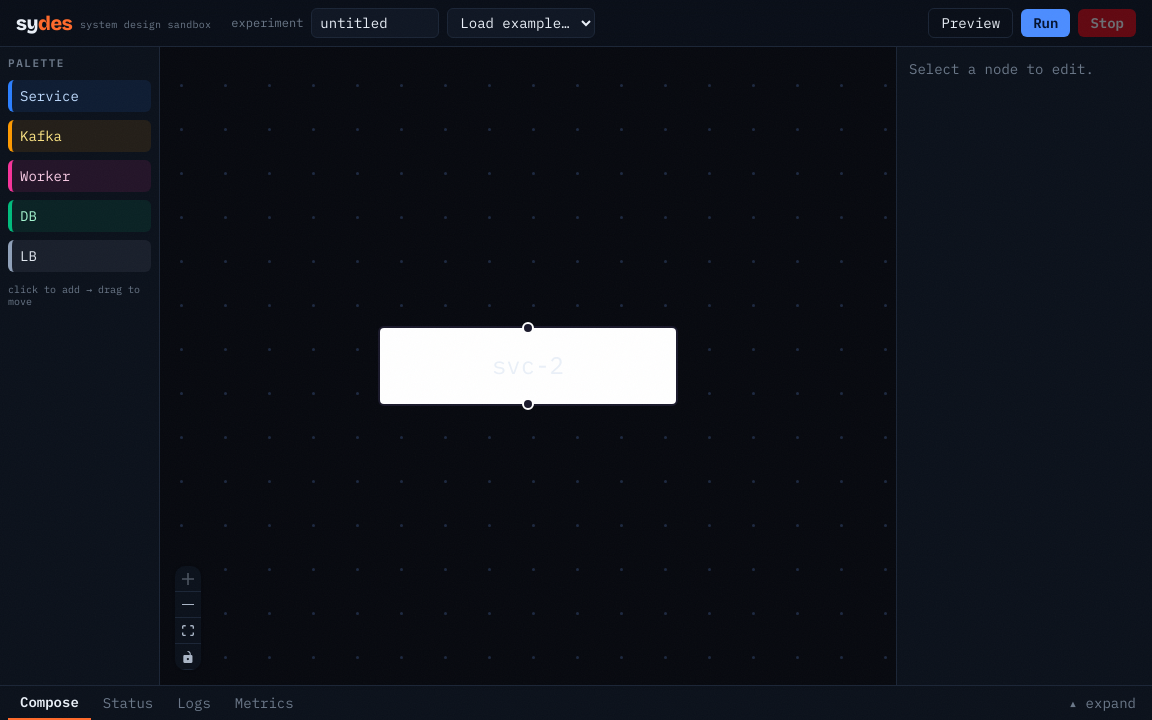
Test: App brick 5 (run load) › does not count a node with fractional loadRate as a source
The image size is (1152, 720).
Click the button "Run" at (1046, 23), box [1021,9,1070,37]
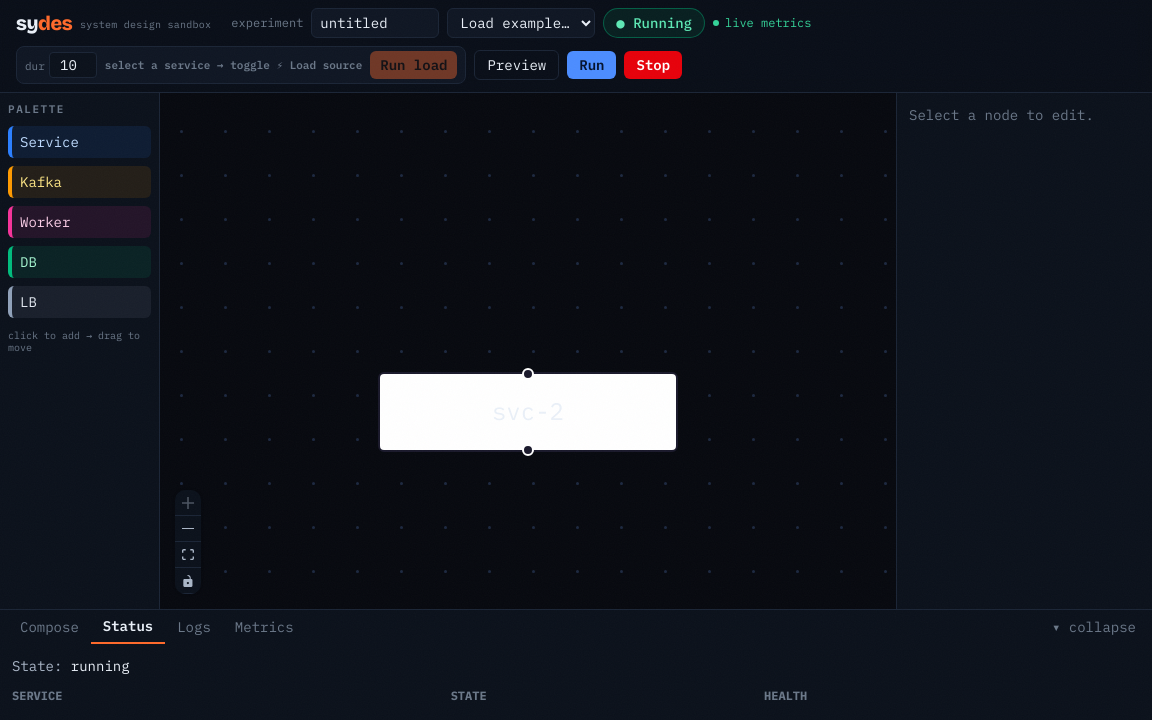
Expected: the button "Run load" is disabled, [370,51,458,79]
